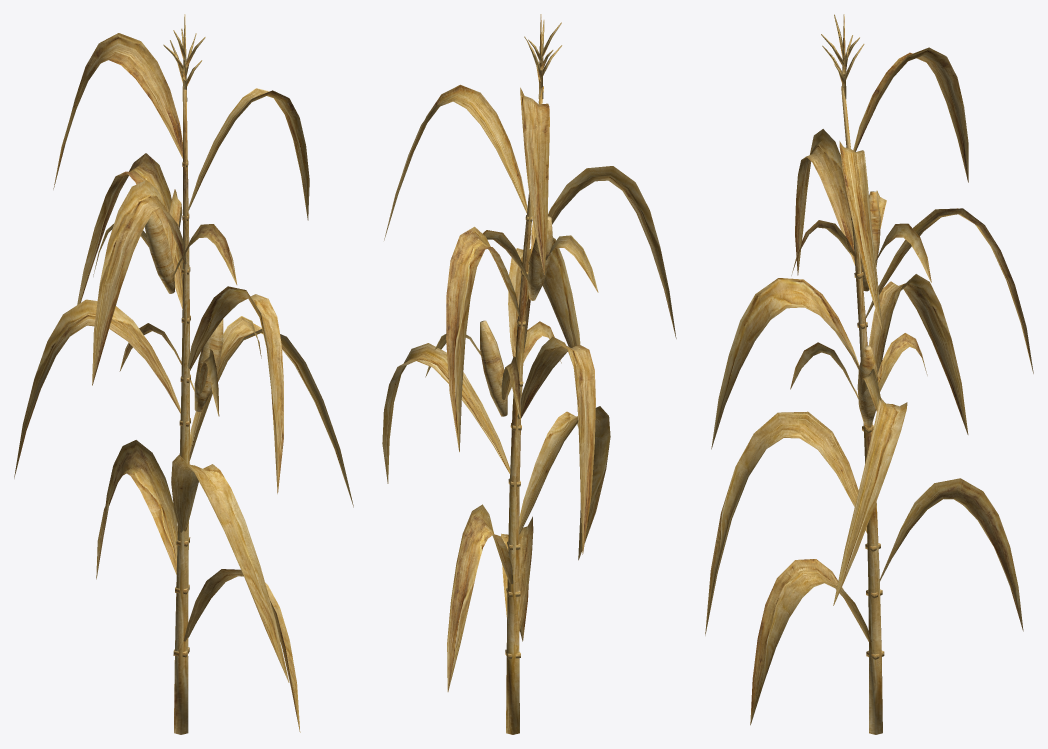
The model's file is Corn_D_Near.fbx.
3 renders of one model, left to right at view 1: azimuth 30°, elevation 25°; view 2: azimuth 150°, elevation 25°; view 3: azimuth 270°, elevation 25°, orthographic. The views are drawn at different scales.
Visible parts, largest first — view 1: Corn_D_Near; view 2: Corn_D_Near; view 3: Corn_D_Near.
Boxes of the visible parts, box(x1,y1,x2,y2) form: Corn_D_Near: box(14, 14, 353, 734); Corn_D_Near: box(382, 14, 676, 734); Corn_D_Near: box(705, 14, 1033, 734).
Bounding box in the file's own units: 3.2 × 8 × 3.35.
1 material, 1 textured.
